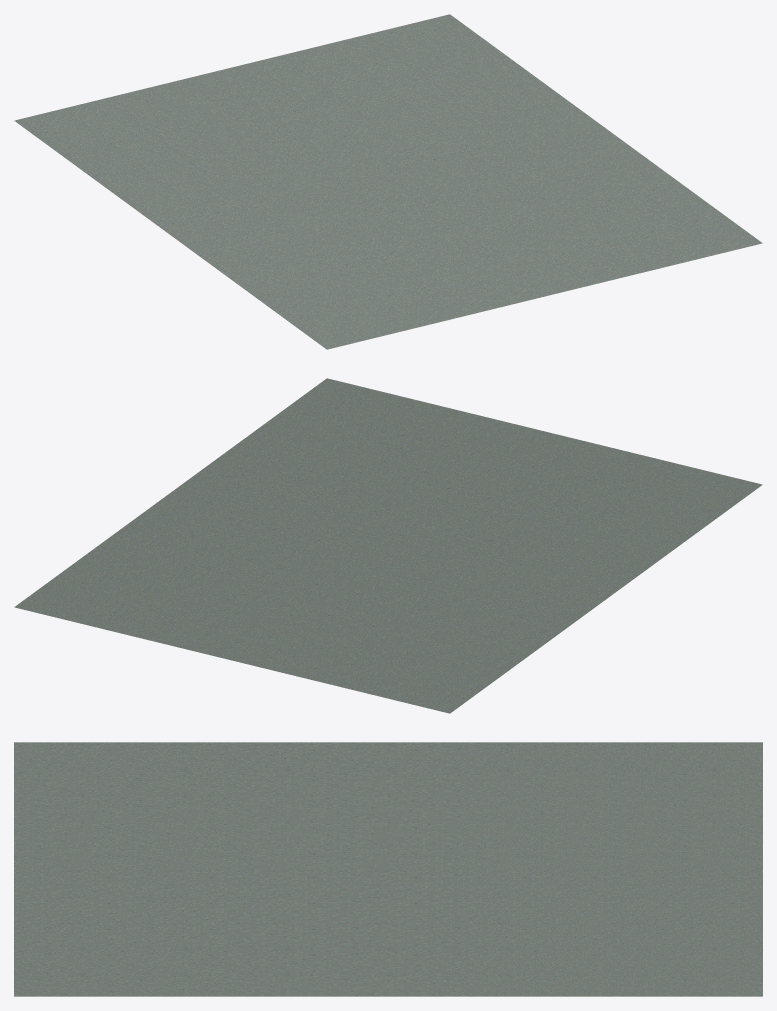
File: CEILING1.glb
3 views of the same model, one above another, from view 1: azimuth 30°, elevation 25°; view 2: azimuth 150°, elevation 25°; view 3: azimuth 270°, elevation 25° (orthographic). The views are drawn at different scales.
Parts seen in each view (by area): view 1: CEILING1; view 2: CEILING1; view 3: CEILING1.
Part boxes in pixels (<box>): CEILING1: <box>14,14,762,349</box>; CEILING1: <box>14,378,762,713</box>; CEILING1: <box>14,742,762,996</box>.
Bounding box in the file's own units: 2399 × 0.000366 × 2983.
1 material, 1 textured.
